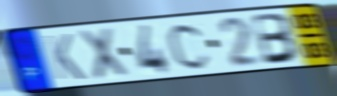2: (218, 15, 263, 69)
4: (137, 23, 169, 76)
B: (250, 11, 301, 67)
C: (166, 21, 213, 71)
K: (42, 32, 88, 82)
X: (76, 25, 131, 83)
